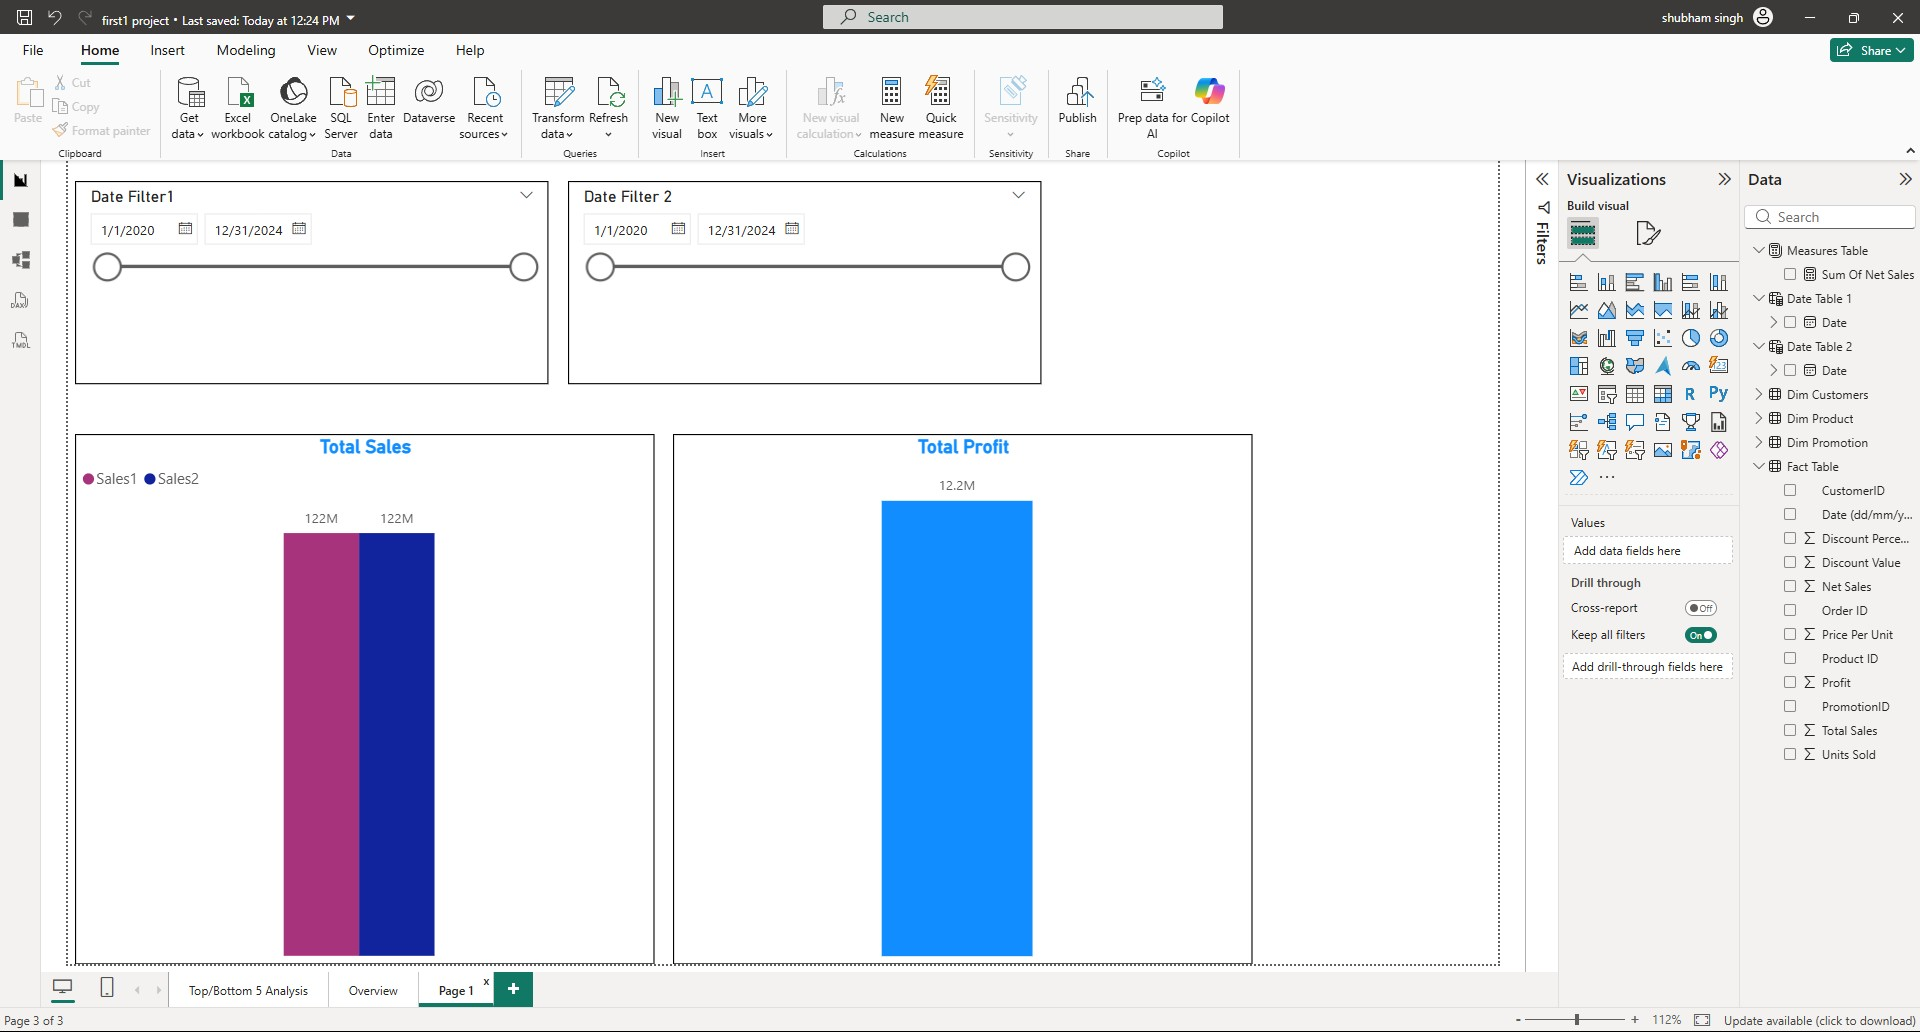

Layout of this report page (visuals, bound fields, positions):
{"tool":"powerbi","page":{"name":"Page 1","canvas":[1280,720],"ordinal":2},"visuals":[{"type":"slicer","fields":{"Values":["Date Table 1.Date"]},"box":[6.3,18.8,424.5,181.8],"z":0},{"type":"clusteredColumnChart","title":"Total Sales","fields":{"Y":["Sum(Fact Table.Net Sales  )","Date Table 1.Sum Of Net Sales"]},"box":[6.3,245.4,518.5,474.6],"z":2},{"type":"slicer","fields":{"Values":["Date Table 2.Date"]},"box":[447.8,18.8,423.6,181.8],"z":3},{"type":"clusteredColumnChart","title":"Total Profit","fields":{"Y":["Sum(Fact Table.Profit)"]},"box":[541.8,245.4,518.5,474.6],"z":4}]}

Visuals, with their boxes on the page's 1280x720 design canvas (x1, y1, x2, y2). These are canvas units, not pixel positions in the 1920x1032 screenshot, which may show the page scaled, cropped or inside an application window:
slicer - Date Table 1.Date: (x1=6, y1=19, x2=431, y2=201)
"Total Sales" clusteredColumnChart: (x1=6, y1=245, x2=525, y2=720)
slicer - Date Table 2.Date: (x1=448, y1=19, x2=871, y2=201)
"Total Profit" clusteredColumnChart: (x1=542, y1=245, x2=1060, y2=720)
